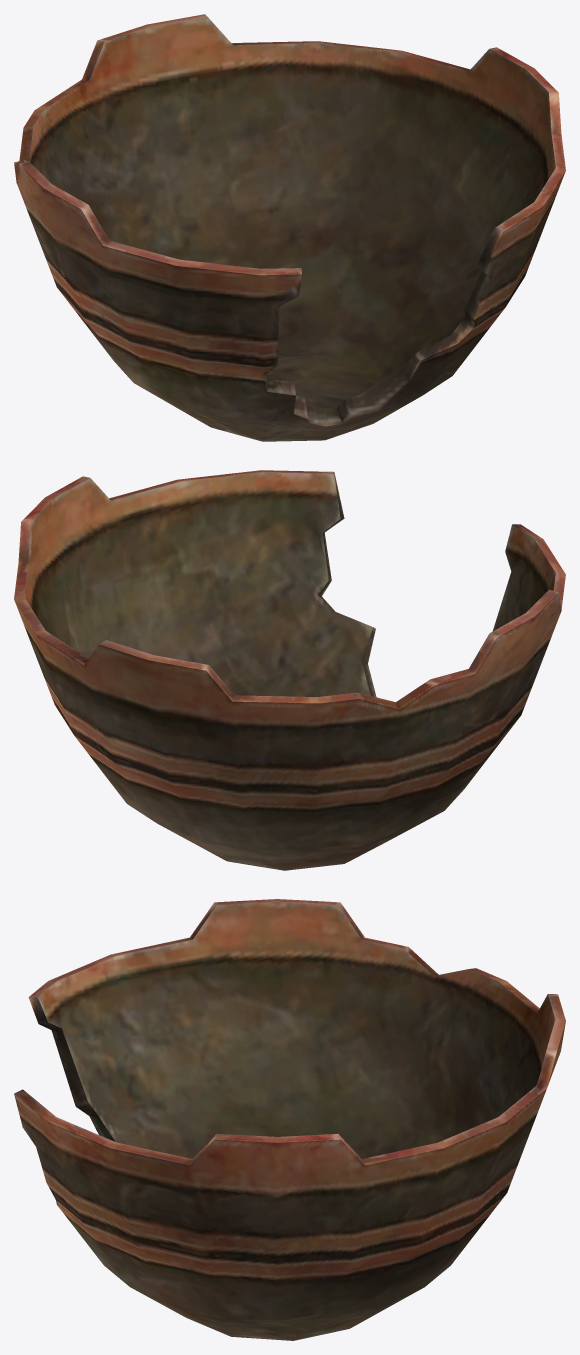
The model's file is kor_vodl_item_ancient_pottery_03.glb.
3 renders of one model, top to bottom at view 1: azimuth 30°, elevation 25°; view 2: azimuth 150°, elevation 25°; view 3: azimuth 270°, elevation 25°, orthographic. The views are drawn at different scales.
Parts seen in each view (by area): view 1: kor_vodl_item_ancient_pottery_03; view 2: kor_vodl_item_ancient_pottery_03; view 3: kor_vodl_item_ancient_pottery_03.
Part boxes in pixels (x1,y1,x2,y2): kor_vodl_item_ancient_pottery_03: (14, 14, 565, 441); kor_vodl_item_ancient_pottery_03: (14, 470, 565, 870); kor_vodl_item_ancient_pottery_03: (14, 899, 565, 1340).
Bounding box in the file's own units: 0.2161 × 0.1152 × 0.2067.
Materials: 1 (1 with a texture image).
